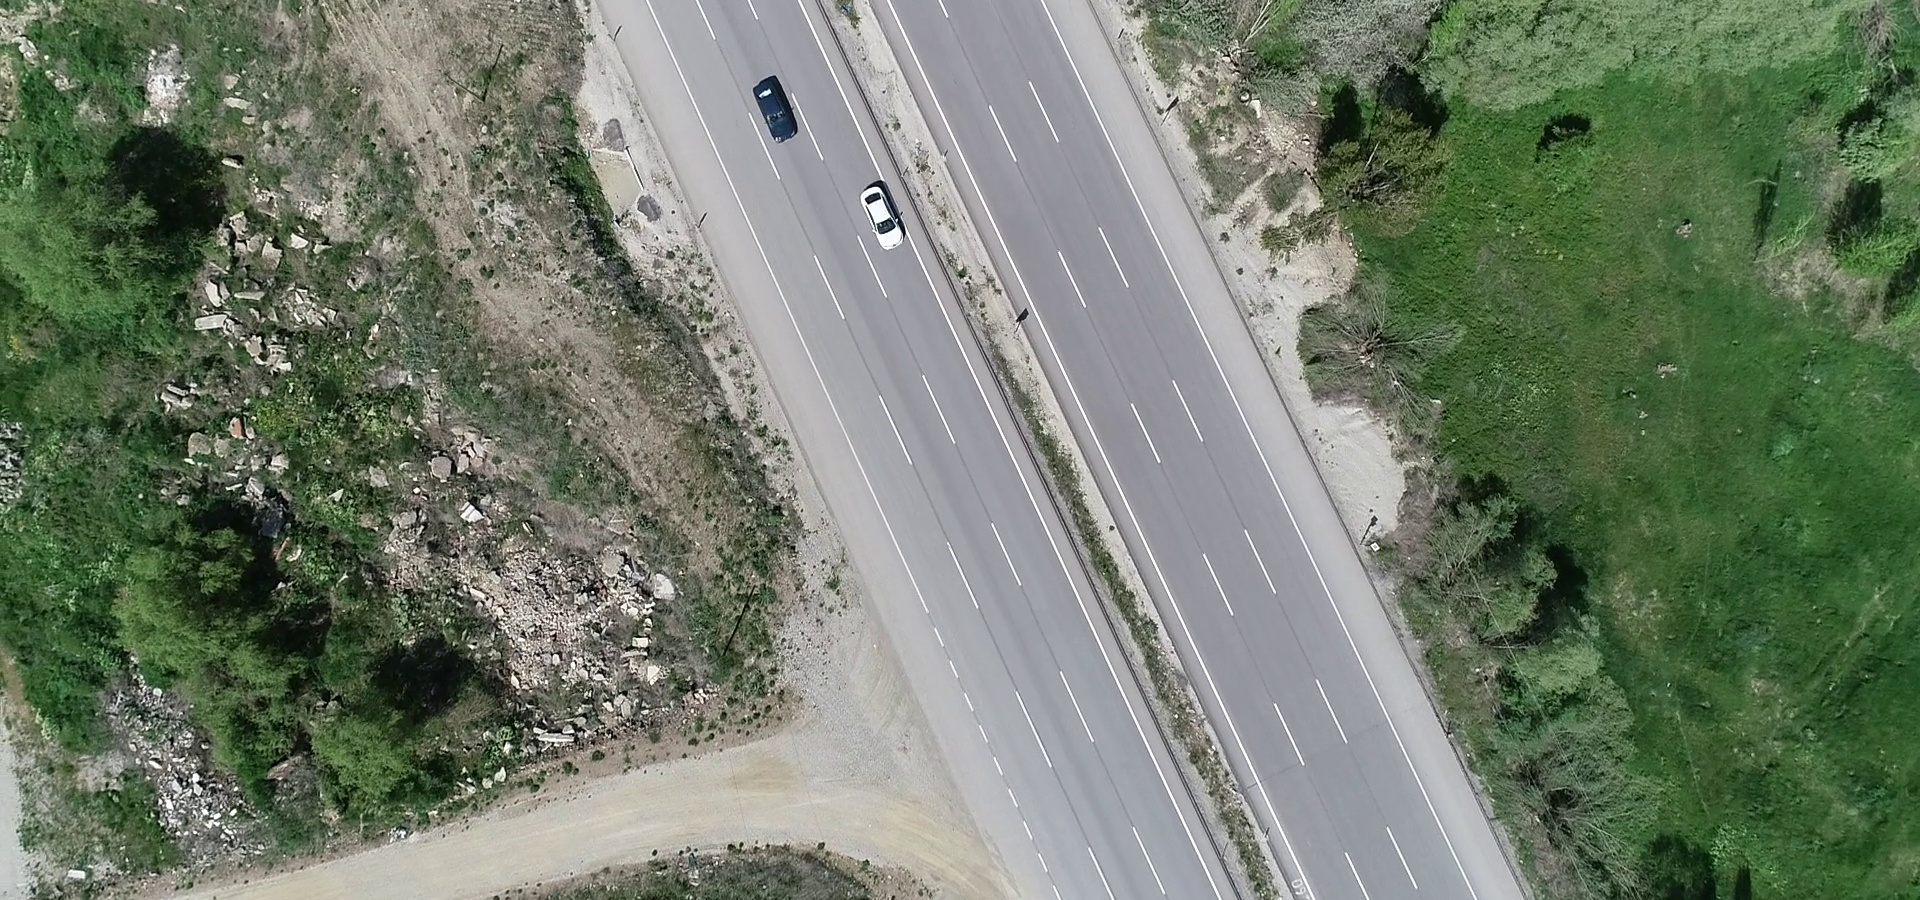arac: (850, 182, 926, 253), (746, 76, 803, 142)
